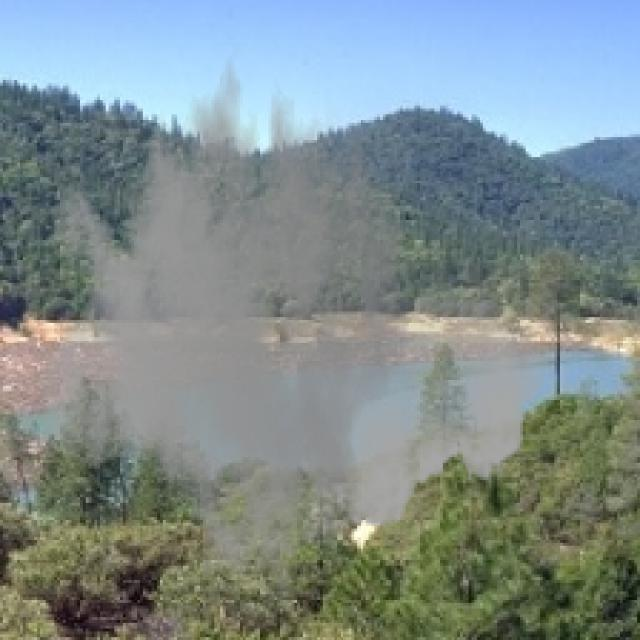smoke: (37, 31, 552, 600)
